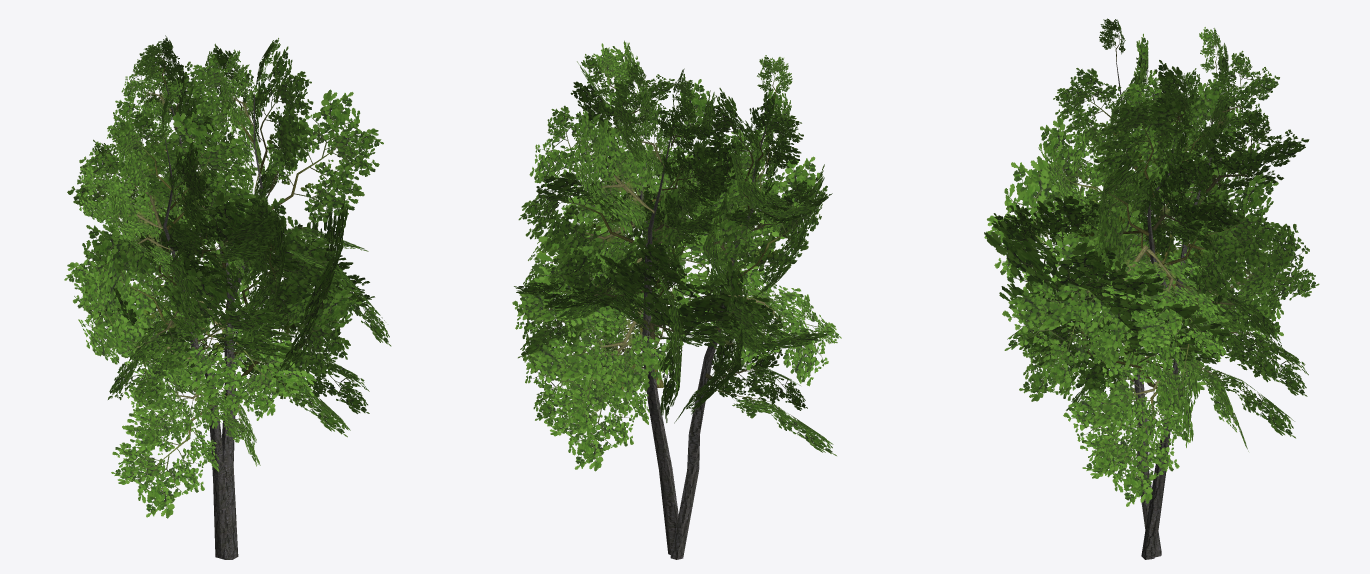
File: tree3.obj
3 renders of one model, left to right at view 1: azimuth 30°, elevation 25°; view 2: azimuth 150°, elevation 25°; view 3: azimuth 270°, elevation 25°, orthographic.
Parts seen in each view (by area): view 1: tree3; view 2: tree3; view 3: tree3.
Boxes of the visible parts, x1=… form: tree3: x1=64, y1=35, x2=391, y2=559; tree3: x1=512, y1=40, x2=841, y2=559; tree3: x1=984, y1=18, x2=1319, y2=559.
Bounding box in the file's own units: 6.97 × 9.18 × 7.01.
Materials: 3 (3 with a texture image).
